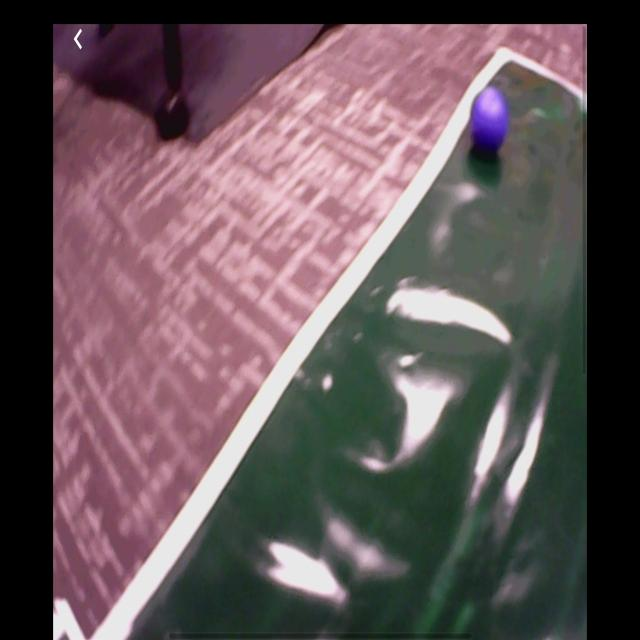ball: (472, 90, 511, 152)
